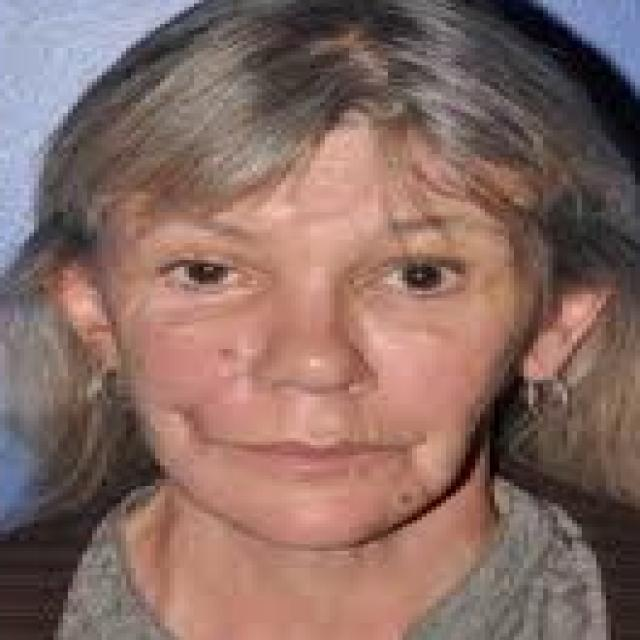normal_face: (77, 46, 537, 550)
